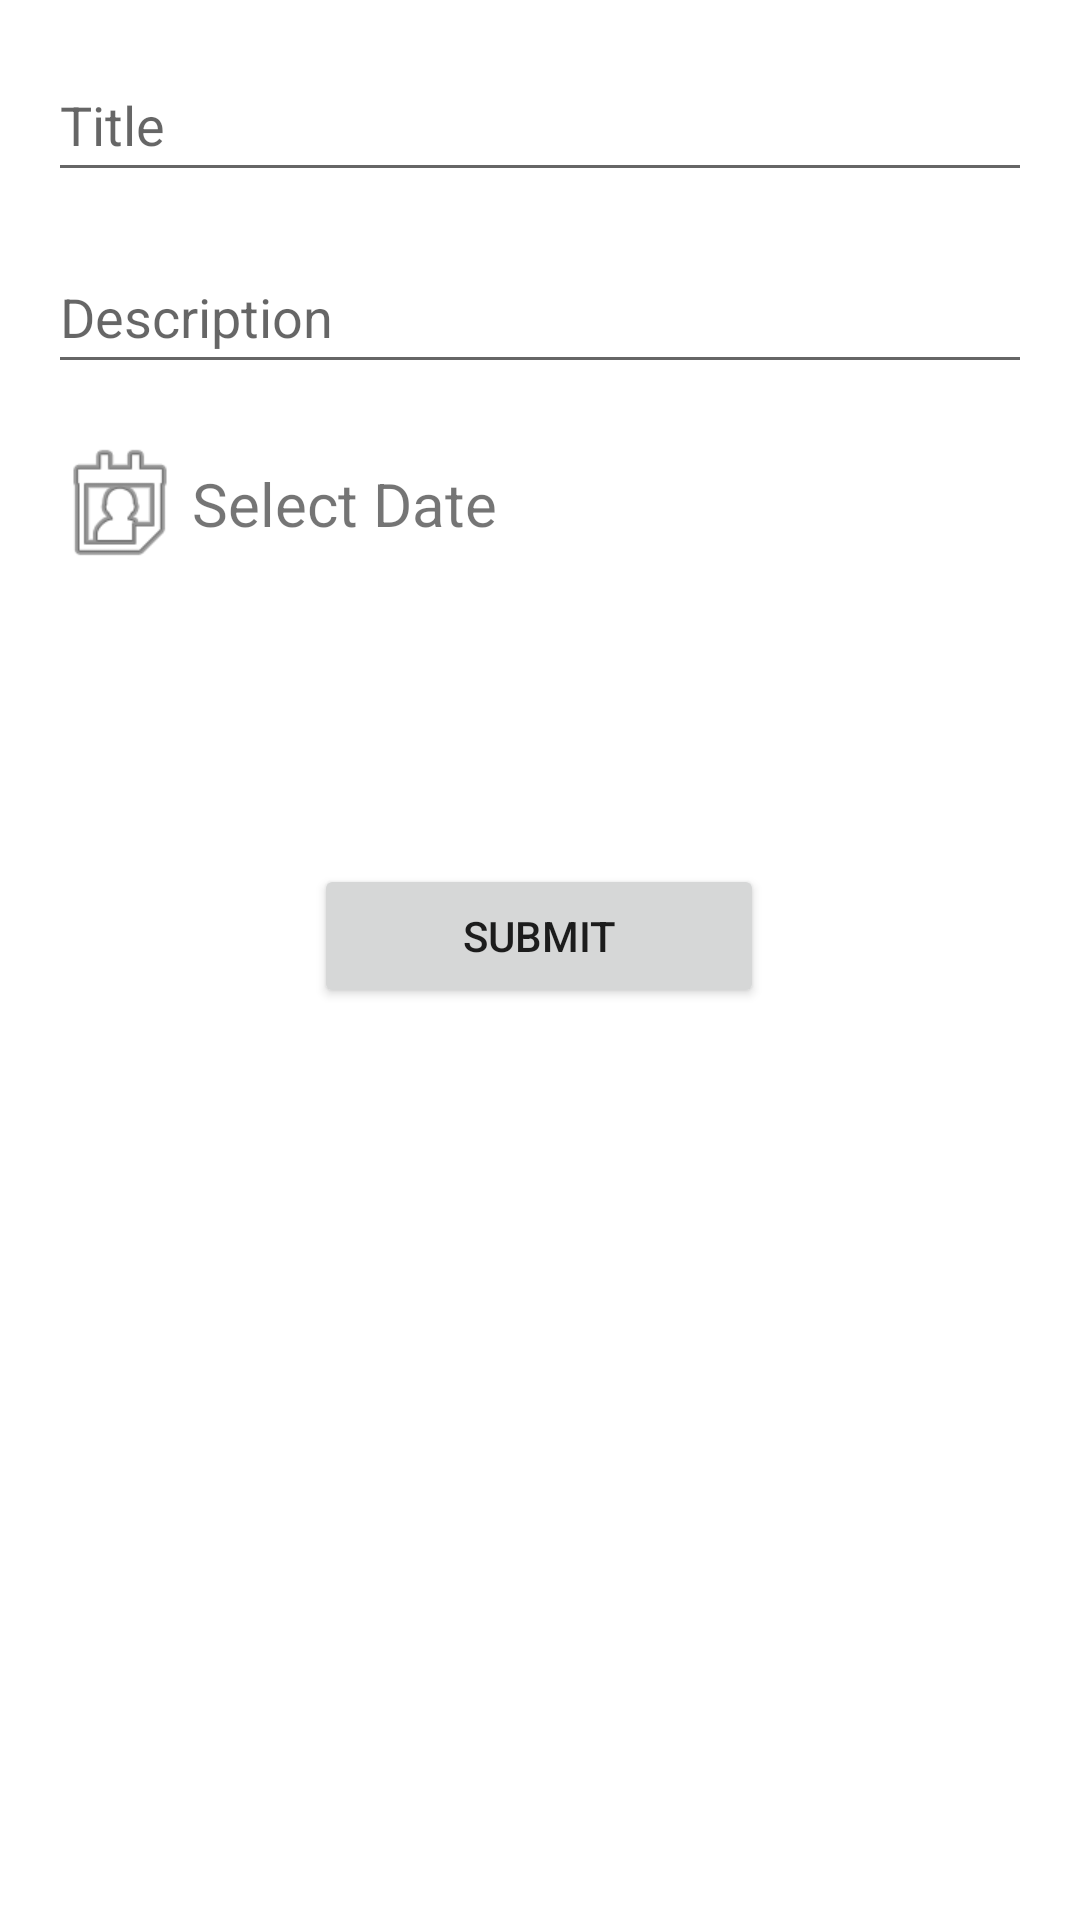

Screen size 1080*1920. Icon name, then its box in pixels as (x1,y1,x2,y2):
calendar: (73,450,167,555)
